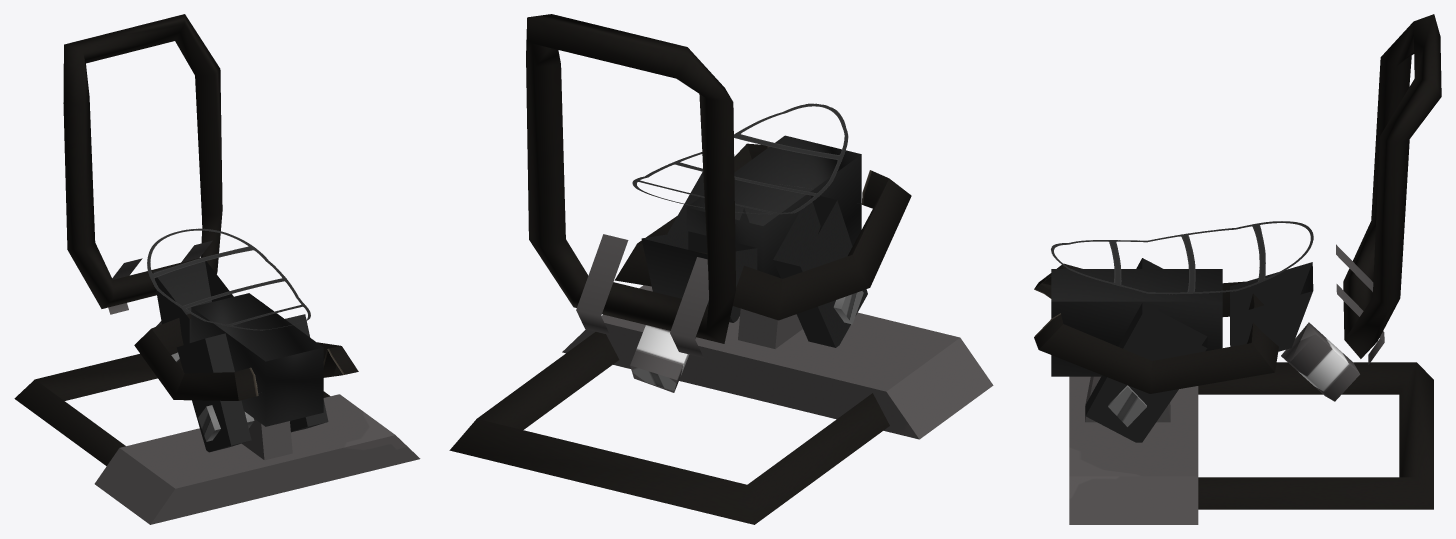
File: obj_interactive_saddle_01_lod1.fbx
3 renders of one model, left to right at view 1: azimuth 30°, elevation 25°; view 2: azimuth 150°, elevation 25°; view 3: azimuth 270°, elevation 25°, orthographic. The views are drawn at different scales.
Parts seen in each view (by area): view 1: polySurface5; view 2: polySurface5; view 3: polySurface5.
Boxes of the visible parts, bbox=[...] form: polySurface5: bbox=[14, 14, 420, 524]; polySurface5: bbox=[449, 14, 993, 524]; polySurface5: bbox=[1034, 14, 1441, 524].
Size of the model in its own units: 2.77 by 3.41 by 3.24.
1 material, 1 textured.
